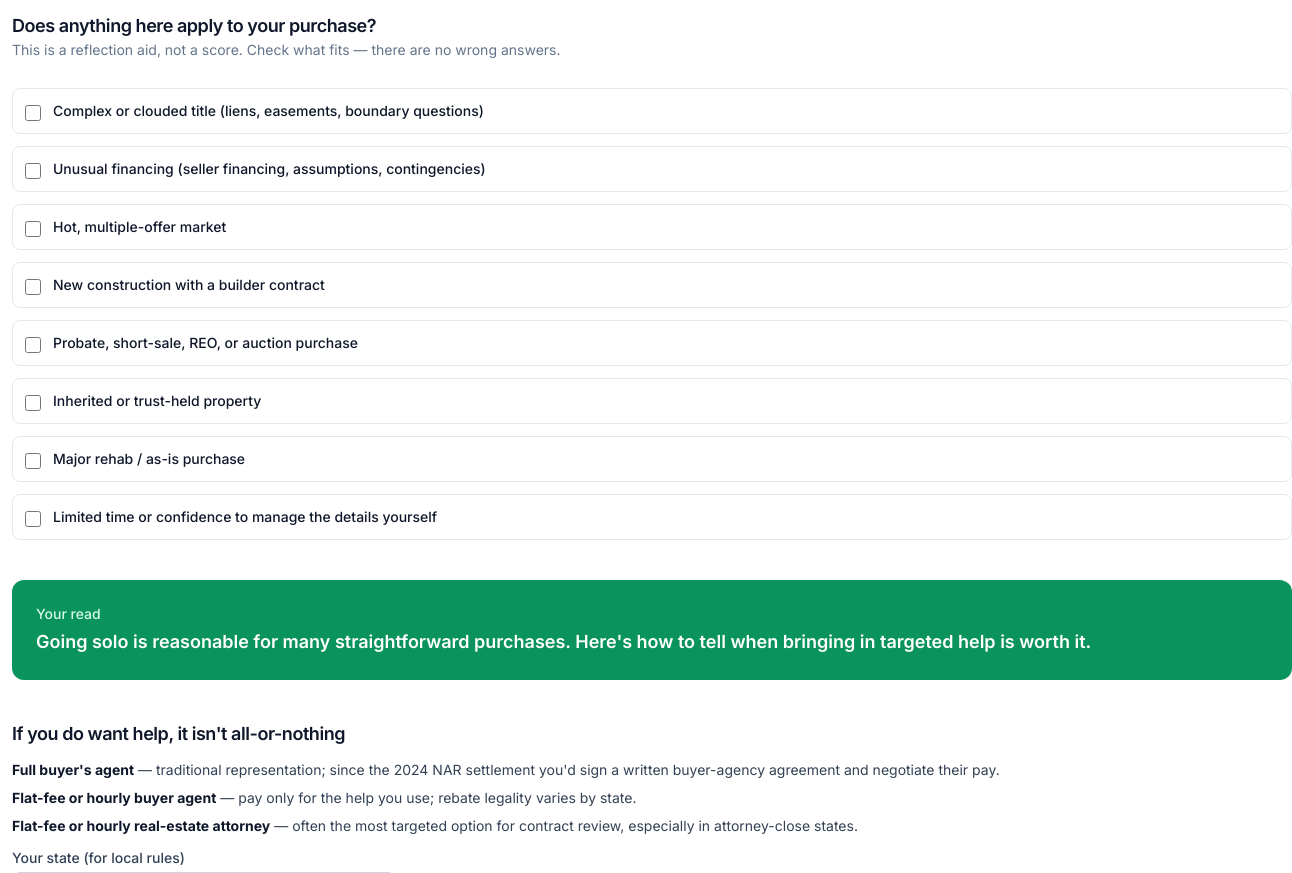
Test case: GoSolo › surfaces a two-sided 'consider help' read when factors are checked — never a verdict
The image size is (1292, 873).
Click the checkbox labelled "Complex or clouded title": (33, 113) [25,105,41,121]
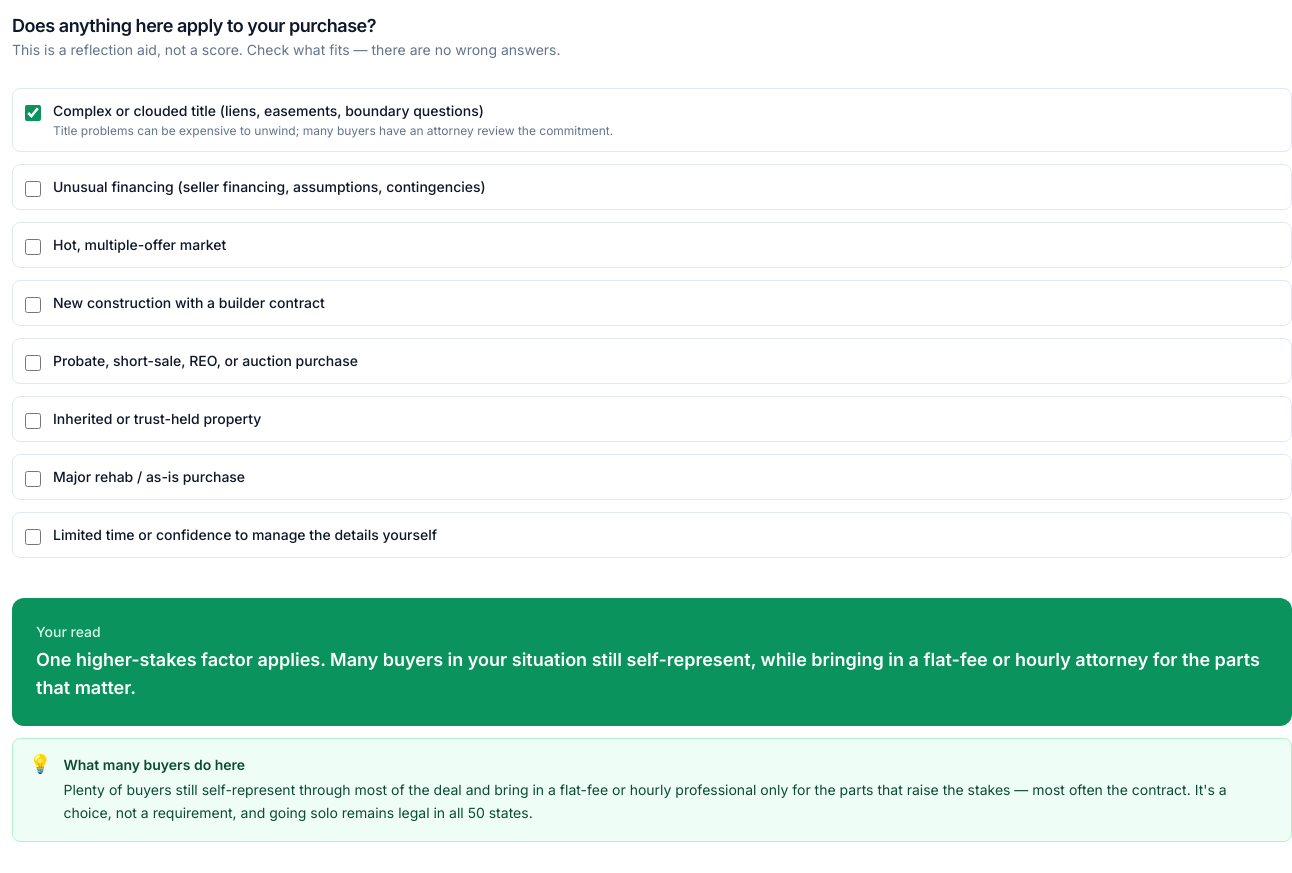
Click the checkbox labelled "New construction with a builder contract": (33, 305) [25,297,41,313]
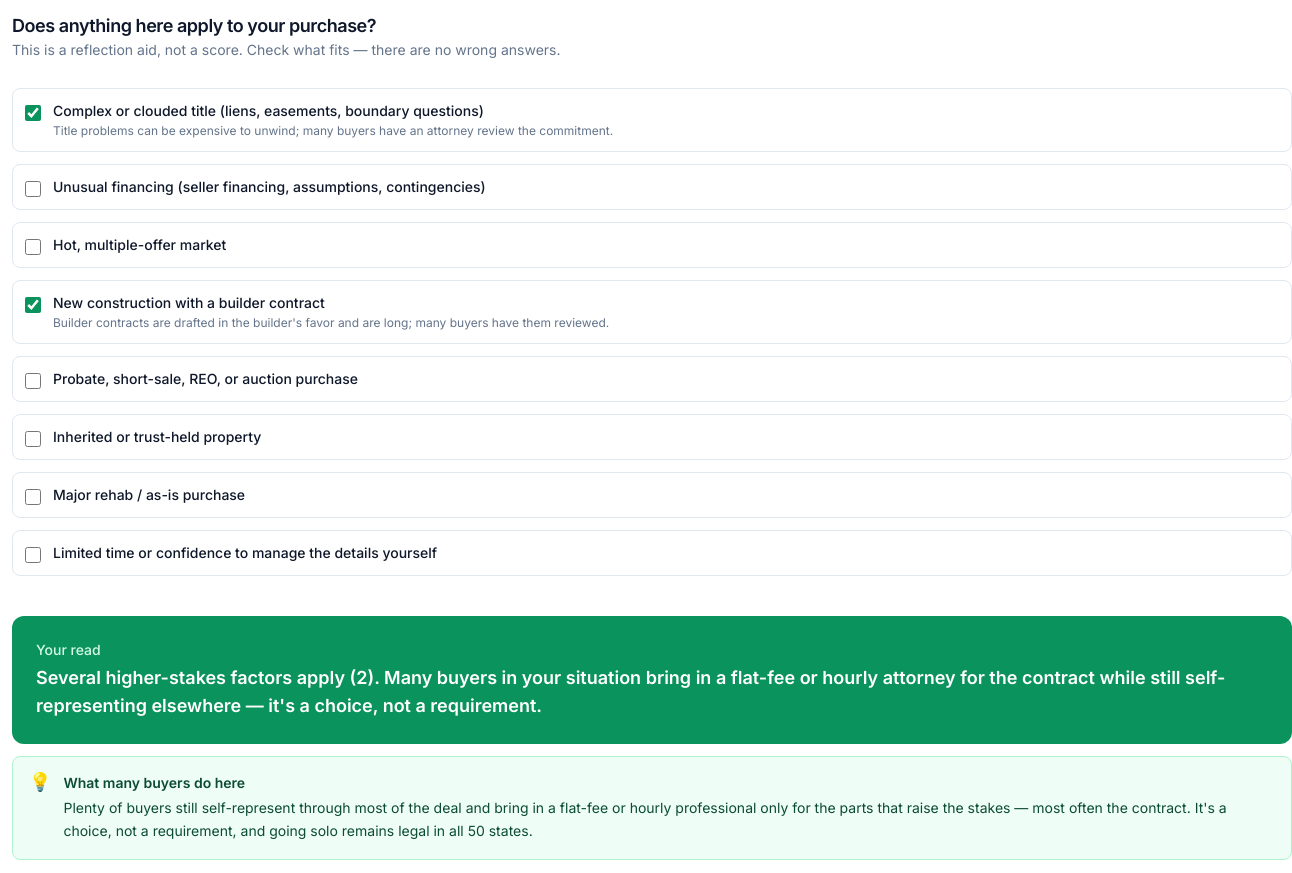
Expected: the text "many buyers" is shown, [53,123,613,138]
Expected: the text "higher-stakes factors apply" is shown, [36,667,1225,716]
